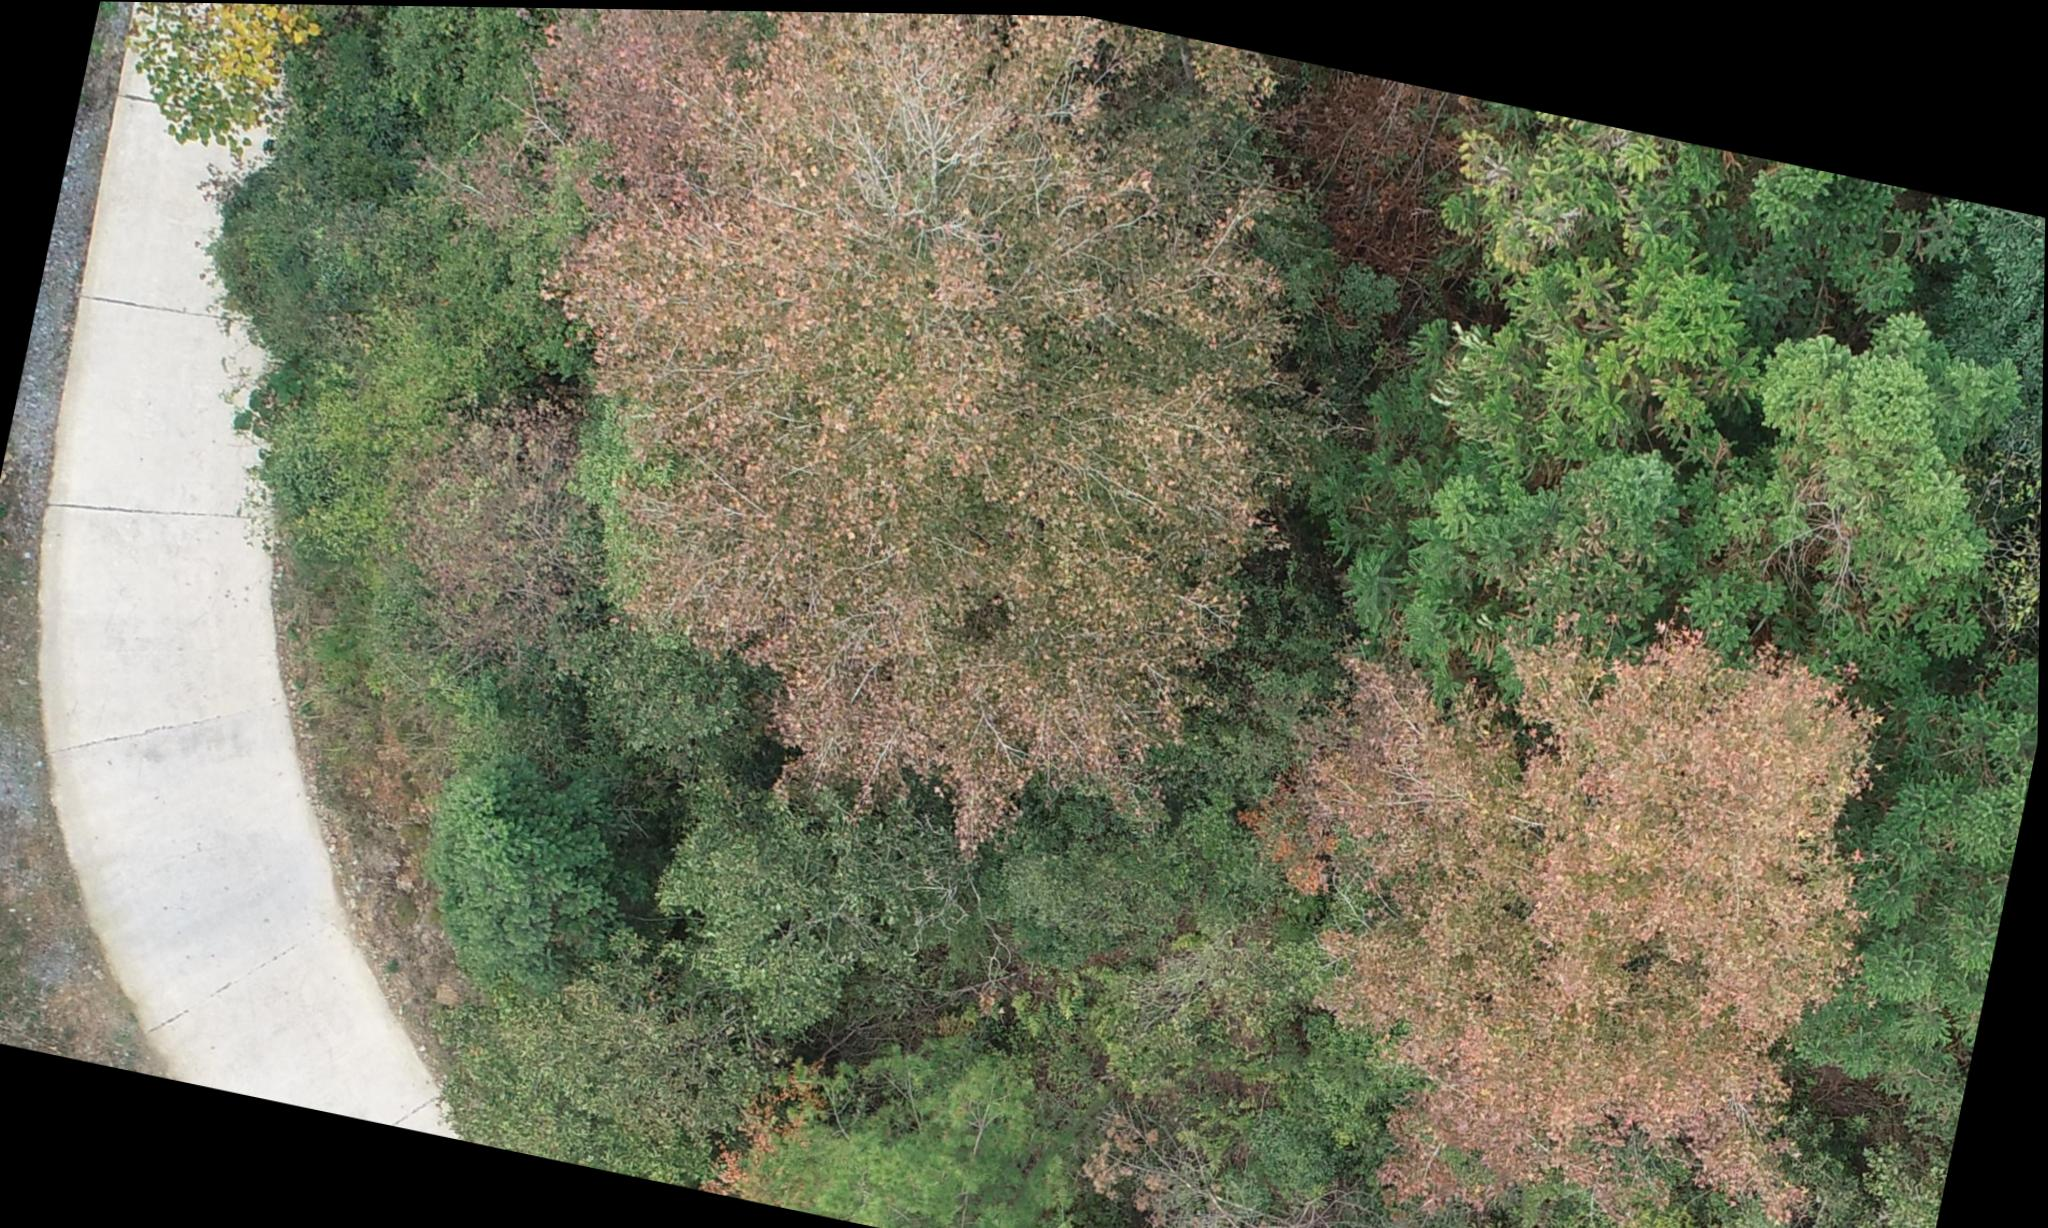heavy: (371, 4, 1362, 816), (1206, 523, 1979, 1228)
